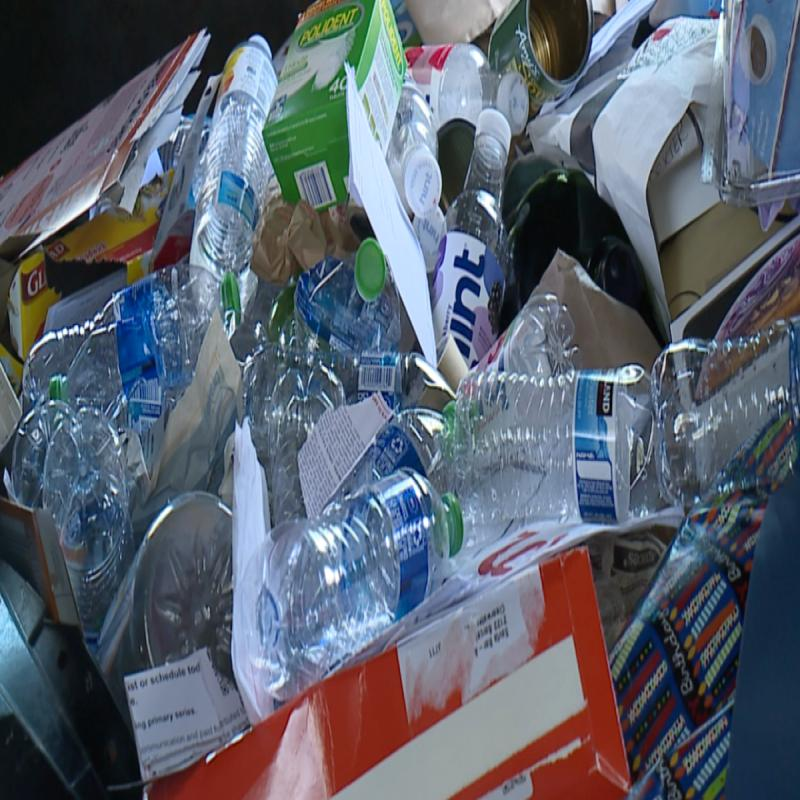botella: (240, 460, 464, 694), (29, 265, 241, 443), (450, 364, 675, 526), (243, 331, 441, 467), (656, 321, 800, 497), (435, 95, 519, 377), (42, 404, 134, 660), (399, 29, 537, 145), (316, 394, 451, 506), (188, 93, 262, 288), (438, 293, 584, 379), (9, 390, 86, 518), (210, 19, 282, 137), (389, 80, 441, 222)
